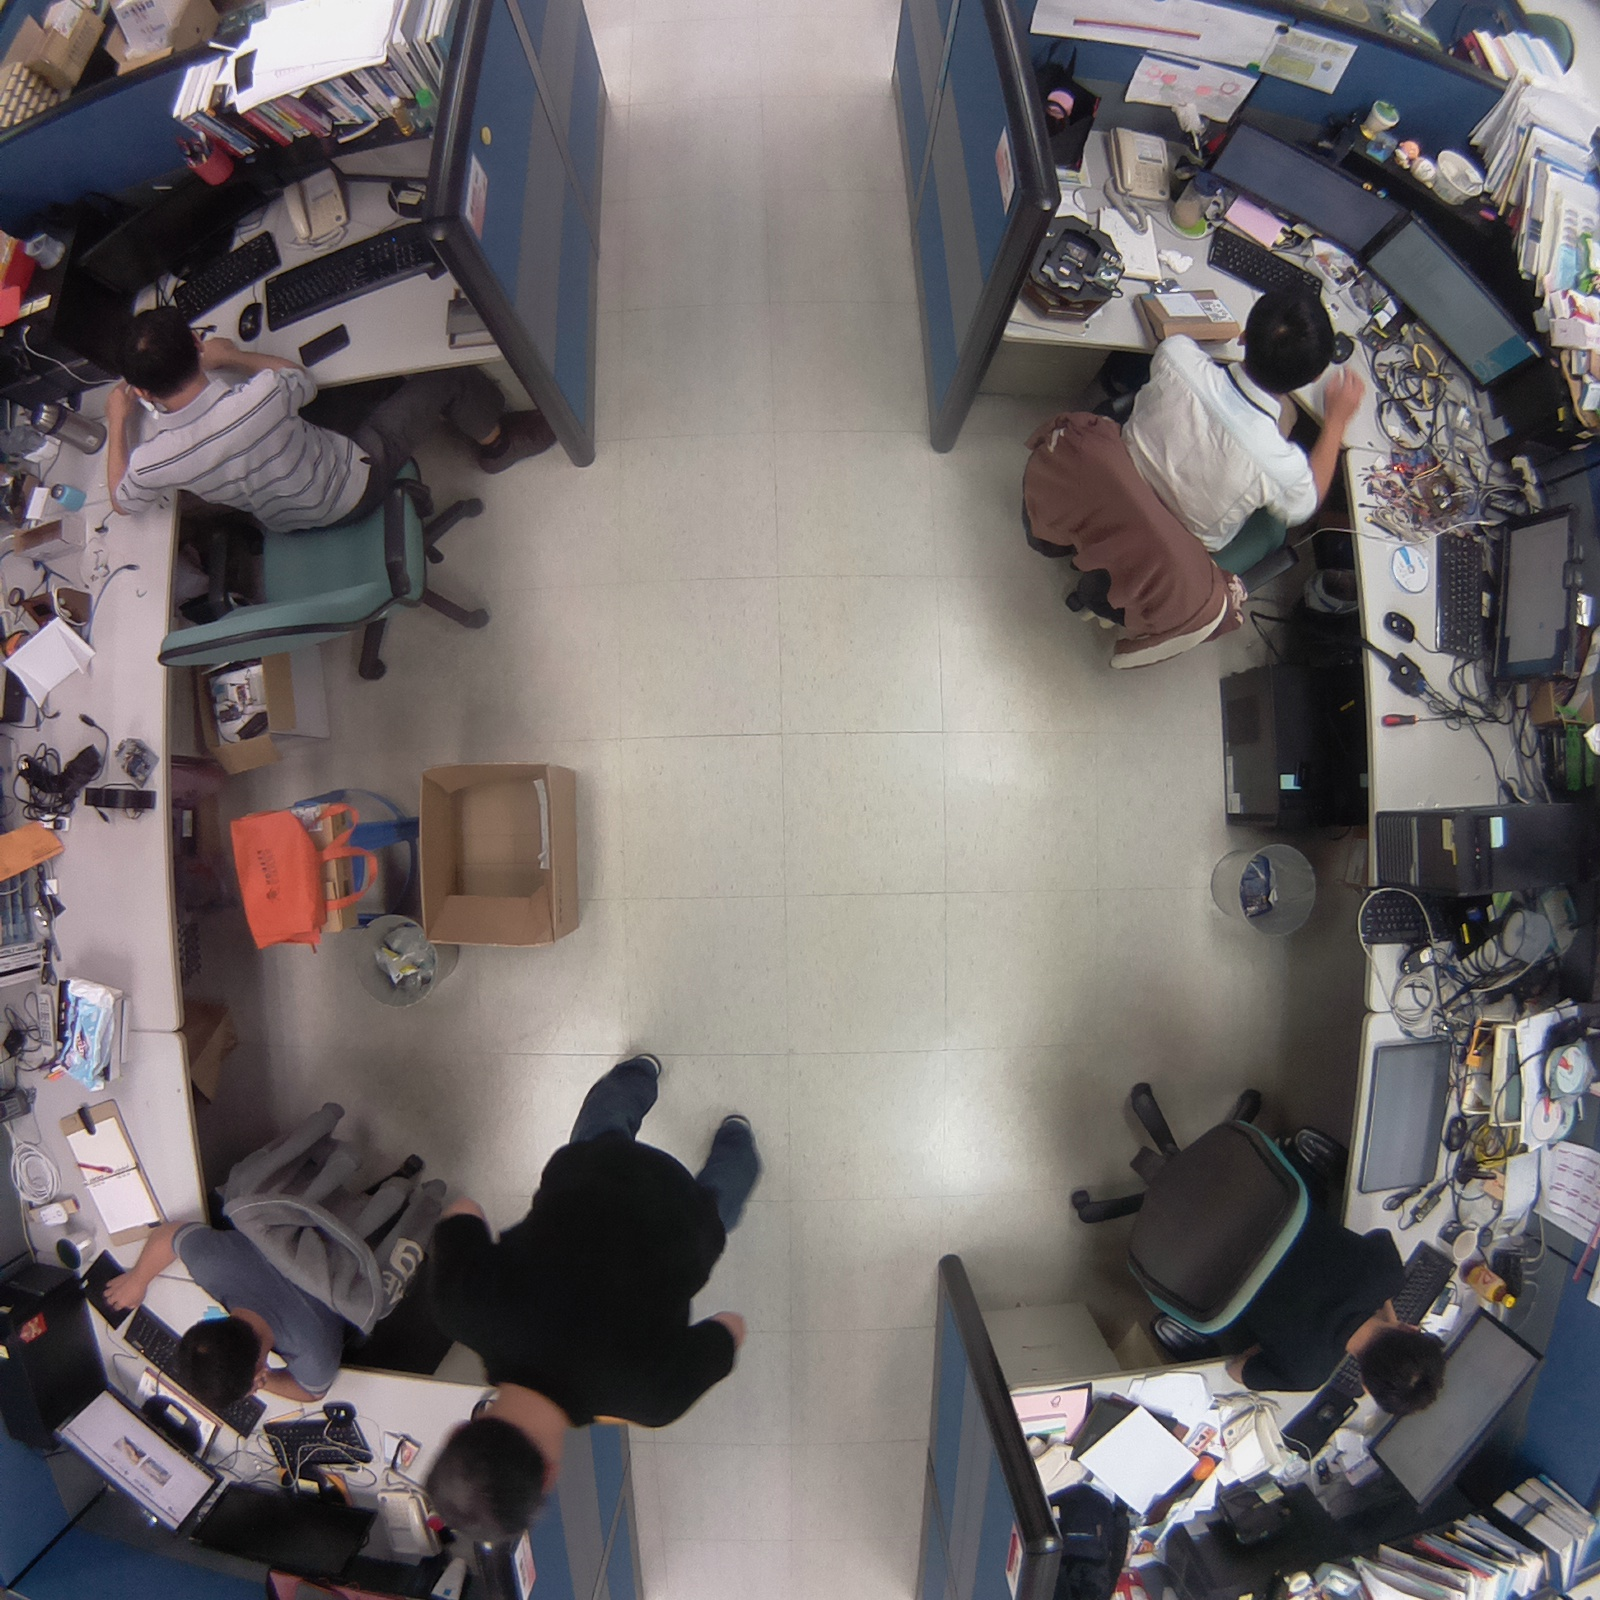head: (419, 1414, 556, 1555), (1235, 278, 1341, 390), (168, 1308, 268, 1418), (103, 302, 209, 400), (1356, 1318, 1450, 1422)
sitting: (95, 294, 504, 691), (1053, 1052, 1453, 1447), (1006, 266, 1373, 688), (96, 1091, 473, 1421)
standing: (404, 1031, 782, 1567)
